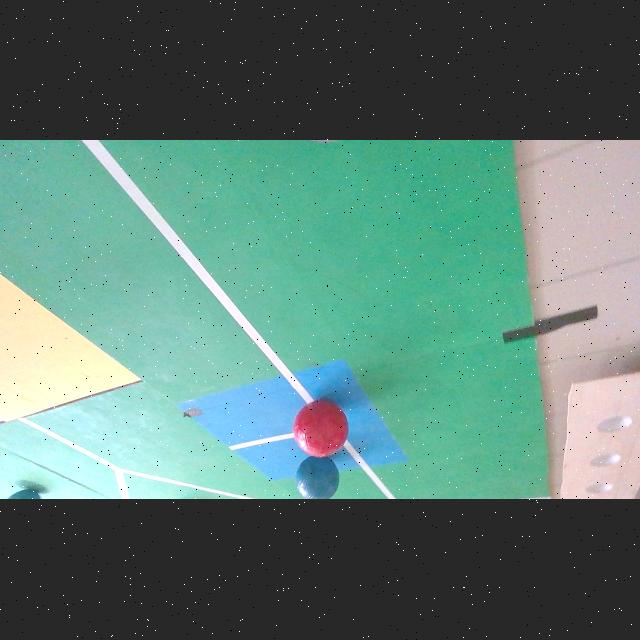B: (297, 458, 338, 500), (7, 490, 41, 500)
R: (293, 401, 348, 459)
